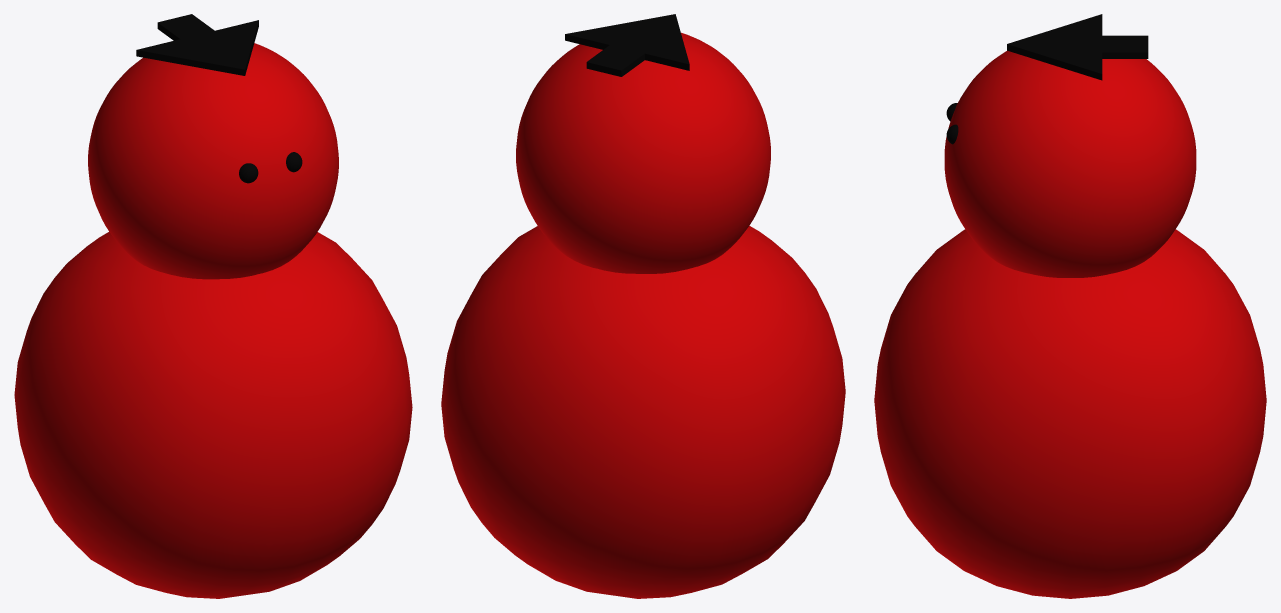
The model's file is 1red.obj.
The picture shows the model from 3 angles, left to right: view 1: azimuth 30°, elevation 25°; view 2: azimuth 150°, elevation 25°; view 3: azimuth 270°, elevation 25°; orthographic projection.
Parts seen in each view (by area): view 1: Cube.002_Cube.003_Material.002, Cube.002_Cube.003_SVGMat; view 2: Cube.002_Cube.003_Material.002, Cube.002_Cube.003_SVGMat; view 3: Cube.002_Cube.003_Material.002, Cube.002_Cube.003_SVGMat.
Boxes of the visible parts, left/top/right/bottom form: Cube.002_Cube.003_Material.002: left=14, top=43, right=412, bottom=598; Cube.002_Cube.003_SVGMat: left=136, top=14, right=302, bottom=183; Cube.002_Cube.003_Material.002: left=441, top=32, right=845, bottom=598; Cube.002_Cube.003_SVGMat: left=565, top=14, right=689, bottom=76; Cube.002_Cube.003_Material.002: left=874, top=50, right=1266, bottom=598; Cube.002_Cube.003_SVGMat: left=946, top=14, right=1148, bottom=144.
Size of the model in its own units: 0.3205 by 0.4814 by 0.3205.
